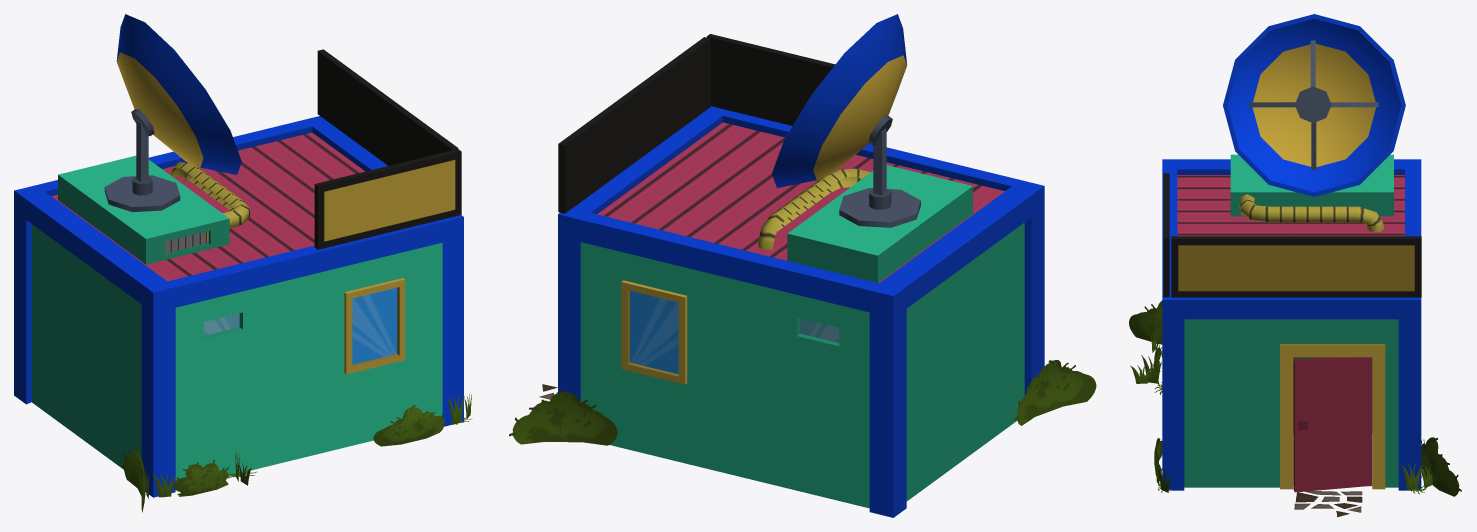
The model's file is Station.fbx.
3 renders of one model, left to right at view 1: azimuth 30°, elevation 25°; view 2: azimuth 150°, elevation 25°; view 3: azimuth 270°, elevation 25°, orthographic. The views are drawn at different scales.
Visible parts, largest first — view 1: Station; view 2: Station; view 3: Station.
Part boxes in pixels (x1,y1,x2,y2): Station: [14, 14, 472, 512]; Station: [509, 14, 1096, 517]; Station: [1129, 14, 1461, 517].
Bounding box in the file's own units: 497 × 474 × 386.
